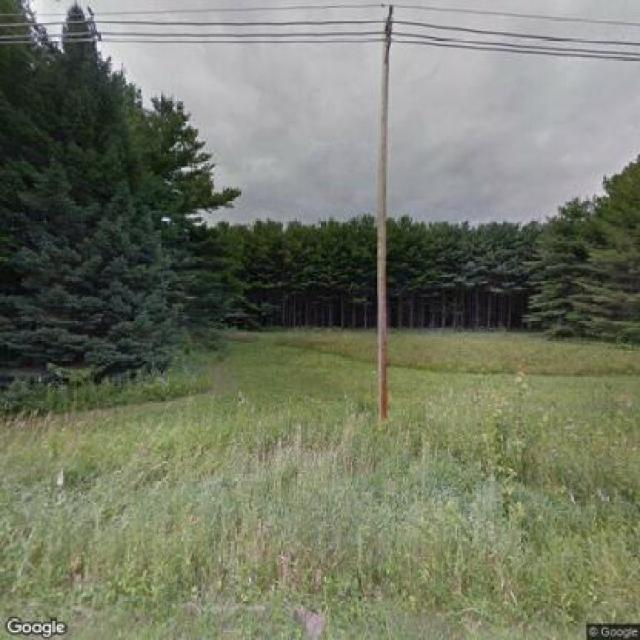pole: (355, 2, 419, 410)
